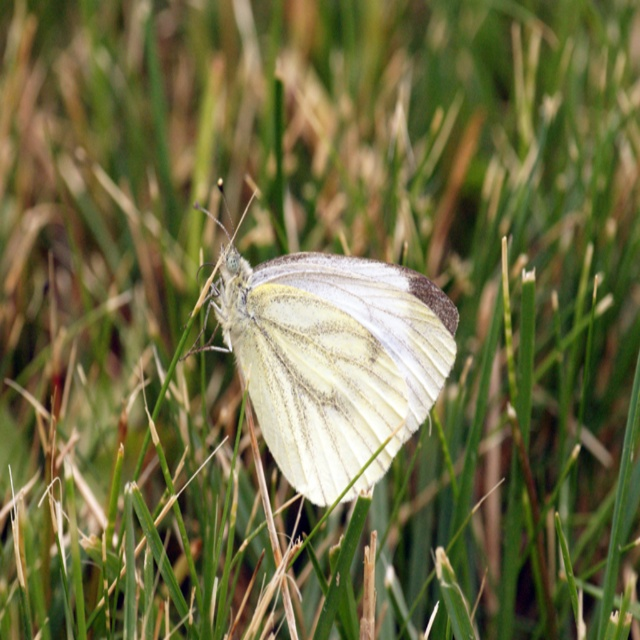Butterfly: (179, 178, 459, 507)
